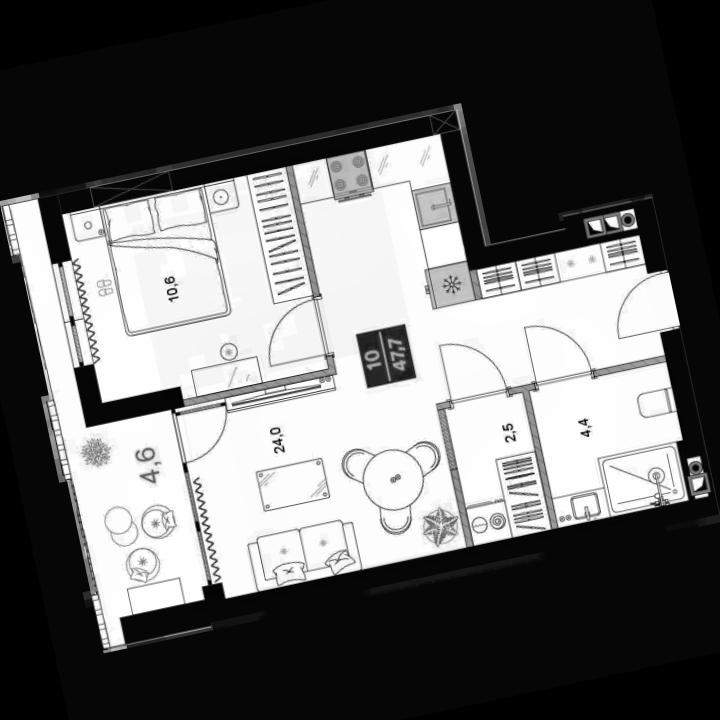door: (432, 328, 514, 411), (518, 310, 600, 391), (255, 290, 336, 370), (602, 266, 684, 344), (167, 396, 237, 468)
window: (46, 258, 80, 320), (60, 318, 92, 371), (179, 465, 205, 525), (191, 524, 216, 584)
